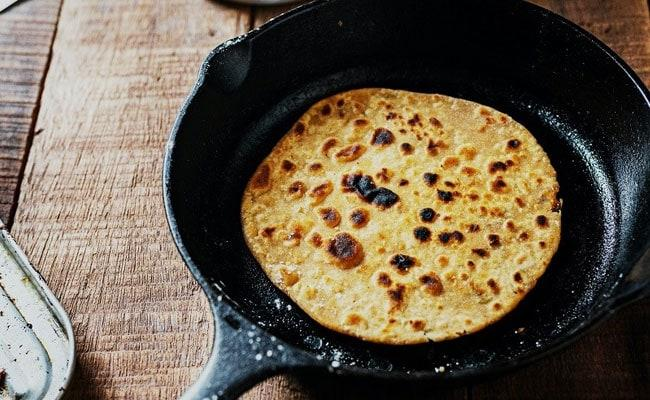roti: (242, 80, 566, 344)
